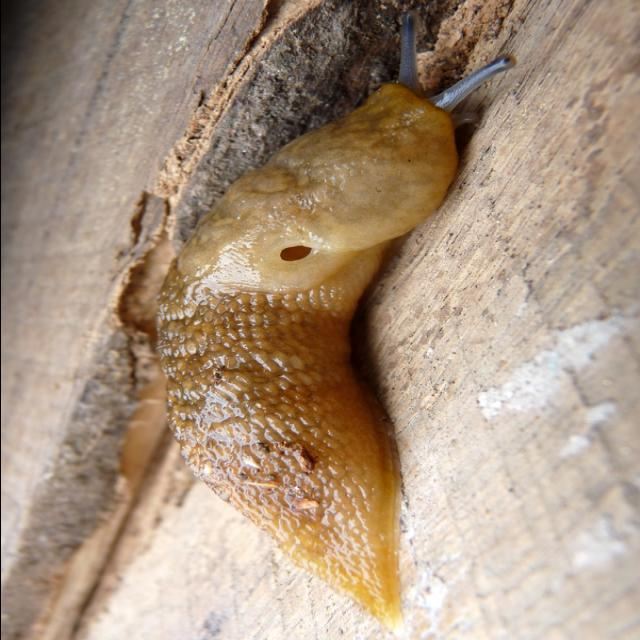slug: (141, 33, 508, 628)
